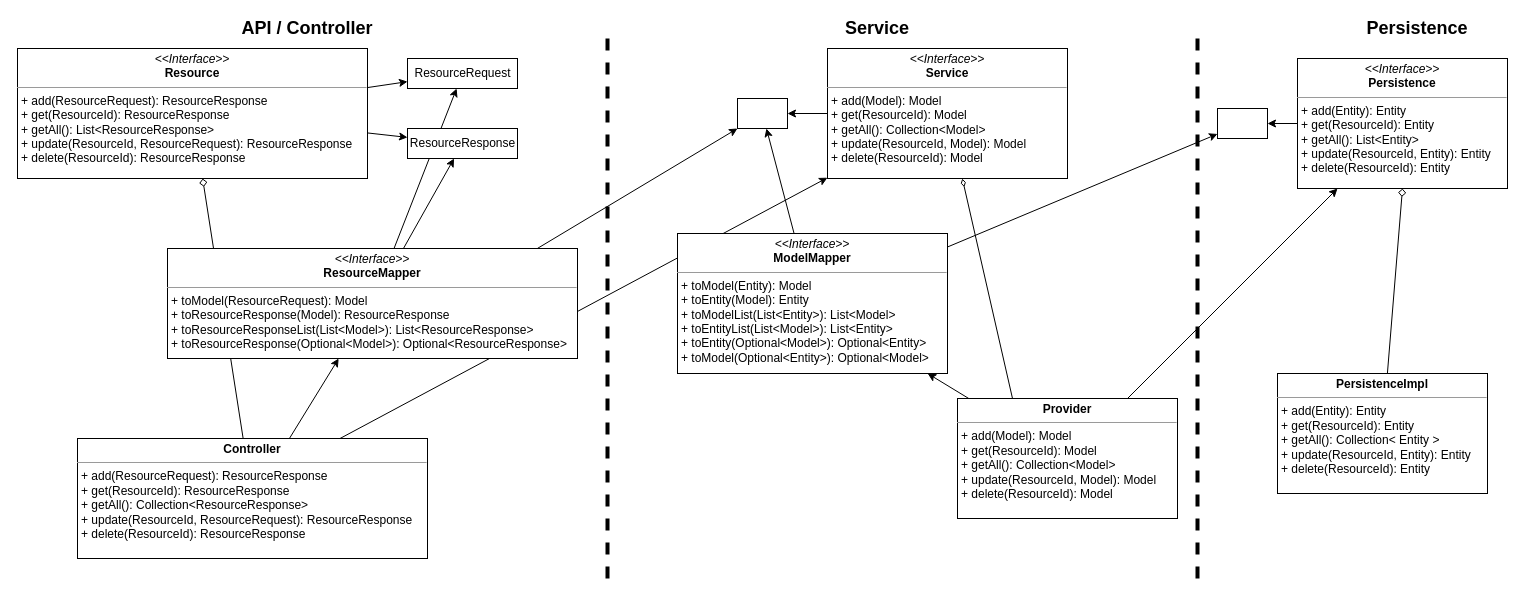
The diagram is 1525 pixels wide and 598 high, and some of its shapes have lost their labels. The shapes that lost their labels are listed below. From the top down, each one's centre as x and y in pixels, then its label:
(x=762, y=113): Model
(x=1242, y=123): Entity
